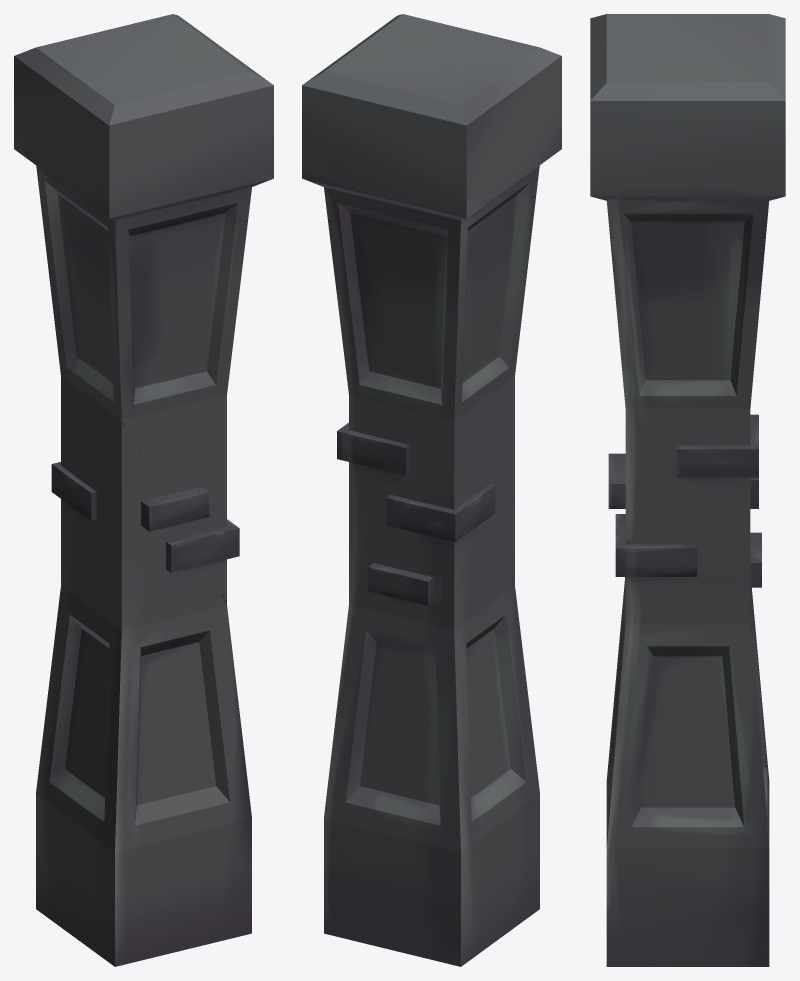
File: Column_Big.fbx
3 views of the same model, side by side, from view 1: azimuth 30°, elevation 25°; view 2: azimuth 150°, elevation 25°; view 3: azimuth 270°, elevation 25° (orthographic). The views are drawn at different scales.
Visible parts, largest first — view 1: Column_Big_1; view 2: Column_Big_1; view 3: Column_Big_1.
Part boxes in pixels (bbox=[...]): Column_Big_1: bbox=[14, 14, 273, 966]; Column_Big_1: bbox=[302, 14, 561, 966]; Column_Big_1: bbox=[590, 14, 785, 966].
Bounding box in the file's own units: 48.06 × 240 × 48.06.
1 material, 1 textured.
